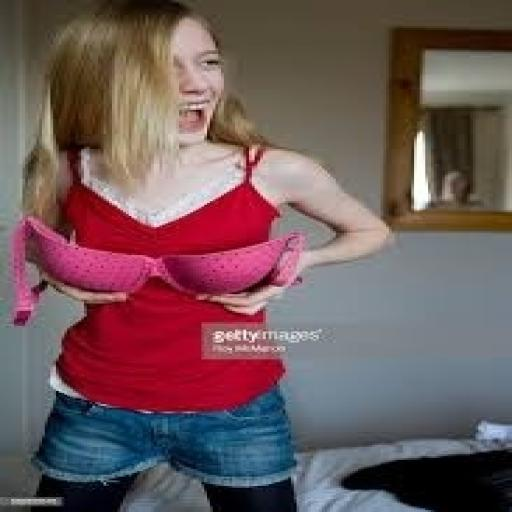laughing: (6, 0, 397, 510)
